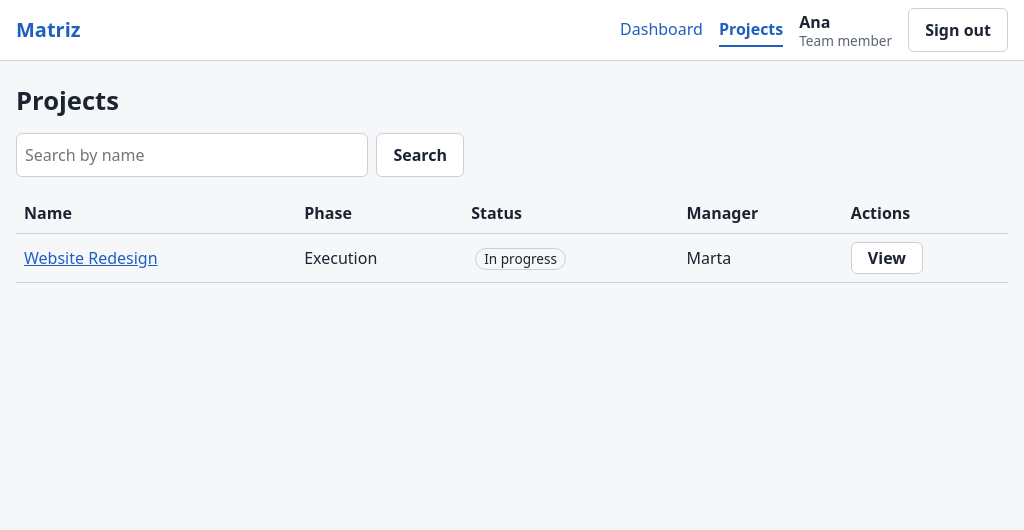
Test: the list of projects (F01, F22) › opens the data of a project from its name
Click the link "Website Redesign". click: (91, 258)
box: [24,247,158,269]
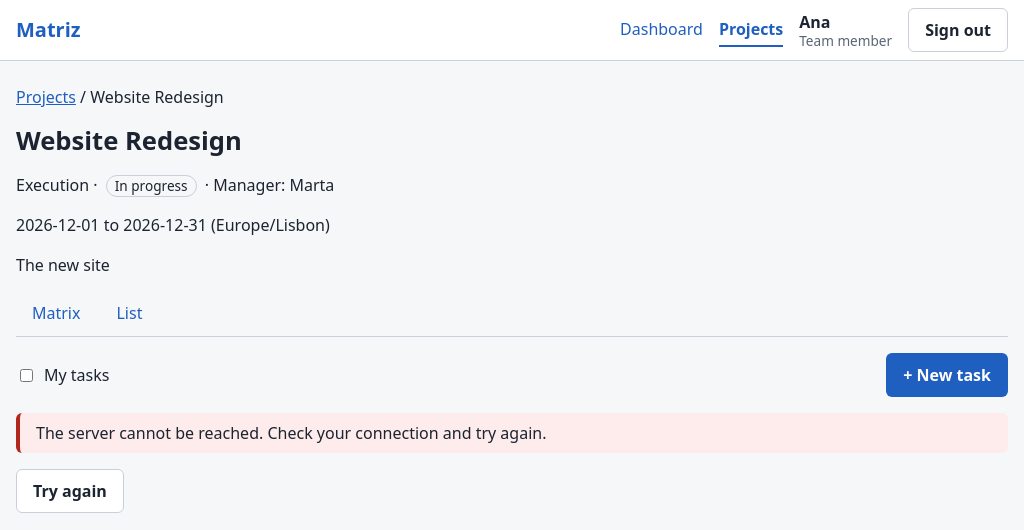
Check: the heading "Website Redesign" is shown, box [16,123,242,158]
Check: the text "The new site" is shown, box [16,254,110,276]
Check: the text "2026-12-01 to 2026-12-31 (Europe/Lisbon)" is shown, box [16,214,330,236]
